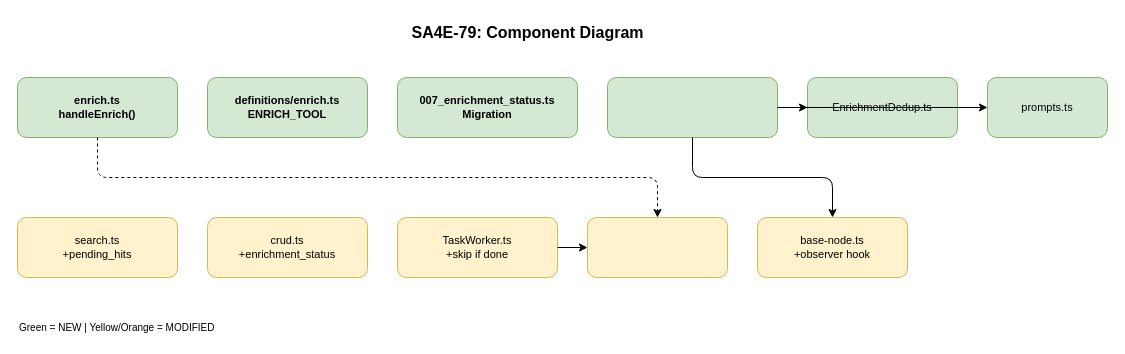
This 1125x354 diagram has some shape labels left out. The shapes that lost their labels are listed below. From the top down, each one's box as (x1, y1, x2, y2) in pixels, then its label:
(606, 76, 778, 138): EnrichmentObserver.ts (Extension)
(586, 216, 728, 278): models.ts +3 fields
